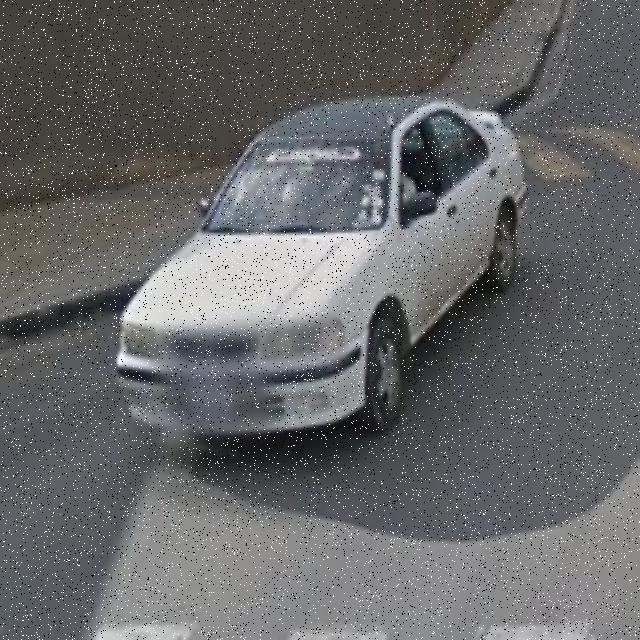cars: (114, 94, 534, 459)
